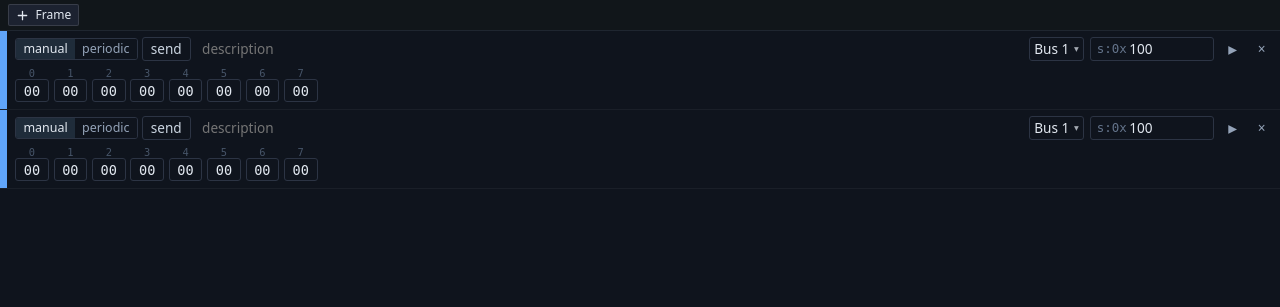
Test: TransmitPanel on the gridview › a click on the tile's background both moves the cursor and toggles the face; a click on a control only moves the cursor
The width and height of the screenshot is (1280, 307).
Click the field named "frame description" at (610, 128), box [197, 116, 1023, 140]
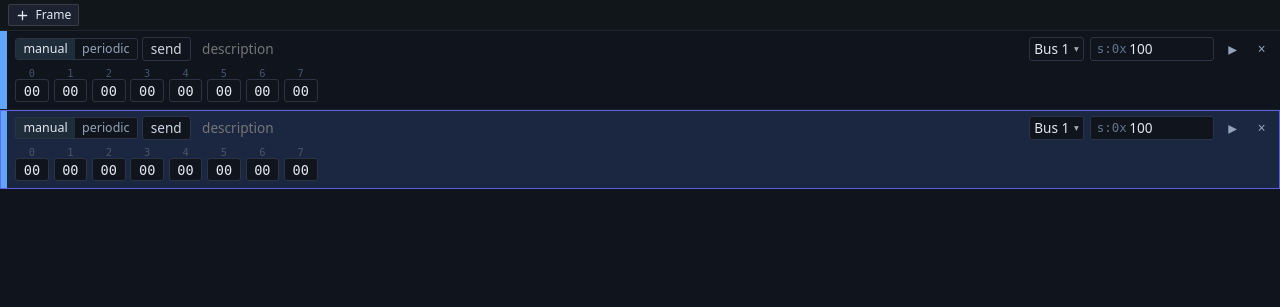
Now the 2nd list item with class "tx-frame-row" has attribute data-active, box [0, 110, 1279, 189]
The tile's own background is the disclosure.
Click the 2nd element with class "tx-frame-body" at (32, 152), box [7, 110, 1279, 188]
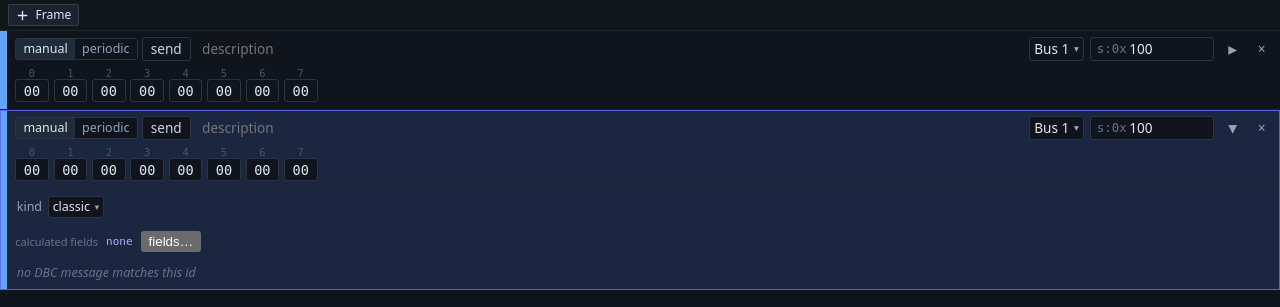
Now the element with class "tx-expanded" is shown, box [15, 188, 1272, 283]
